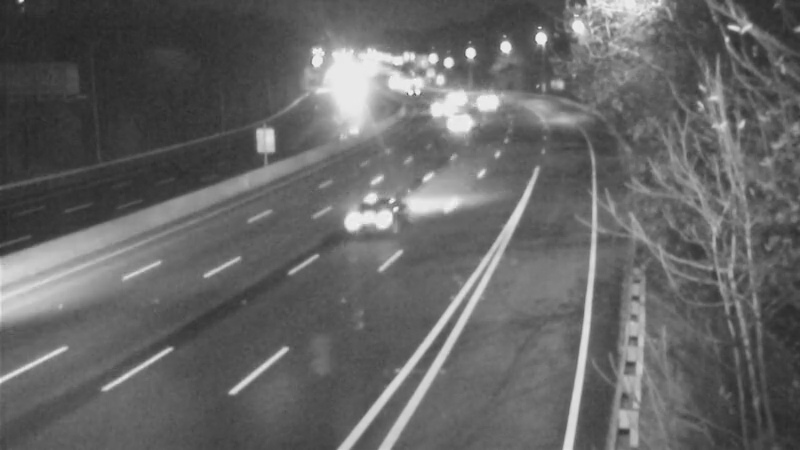vehicle: (336, 179, 416, 259), (436, 68, 486, 118), (416, 83, 466, 133), (437, 97, 487, 147)
